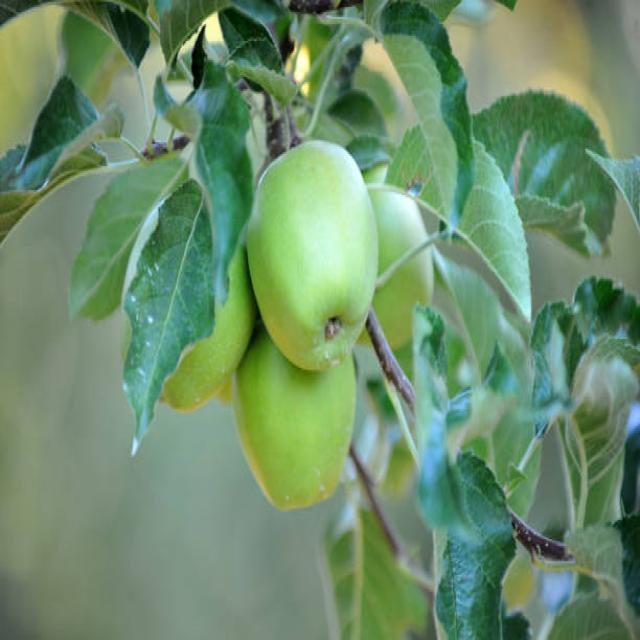Unripe: (246, 140, 376, 373)
